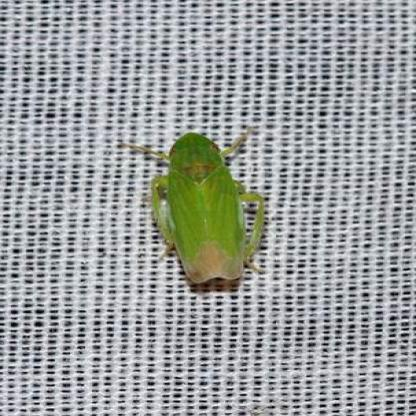Green-Leafhopper: (119, 128, 275, 292)
